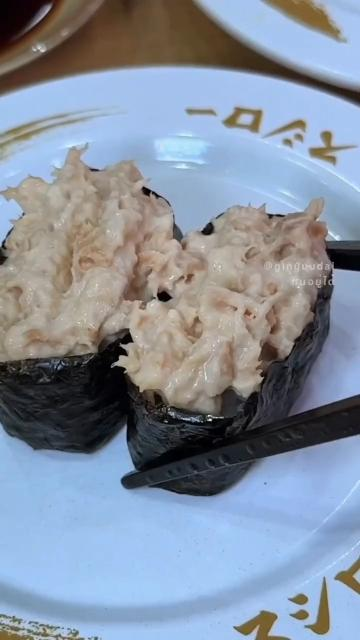janwhite: (0, 59, 360, 640), (181, 0, 360, 84)
